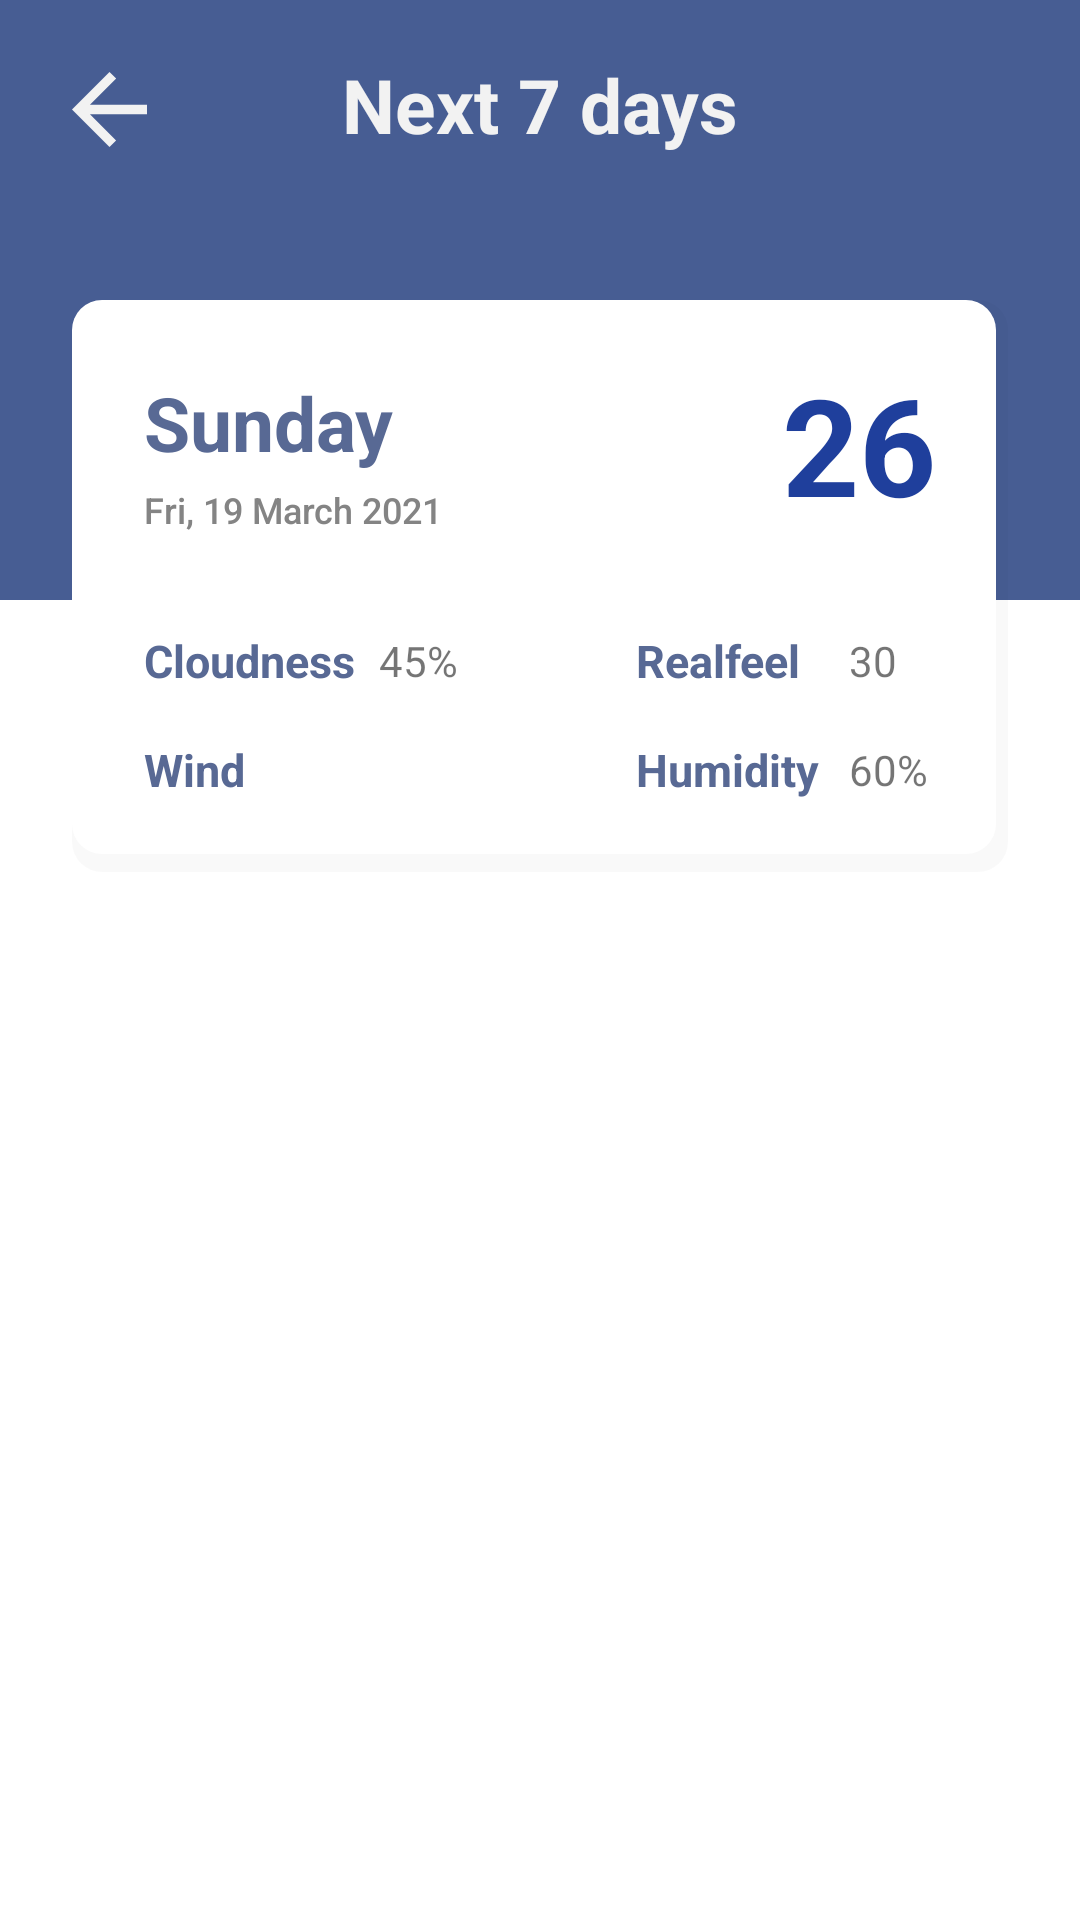

Point at icon controls on the screen. Image size 1080 x 1920, points as [x,y].
arrow back: [109,109]
